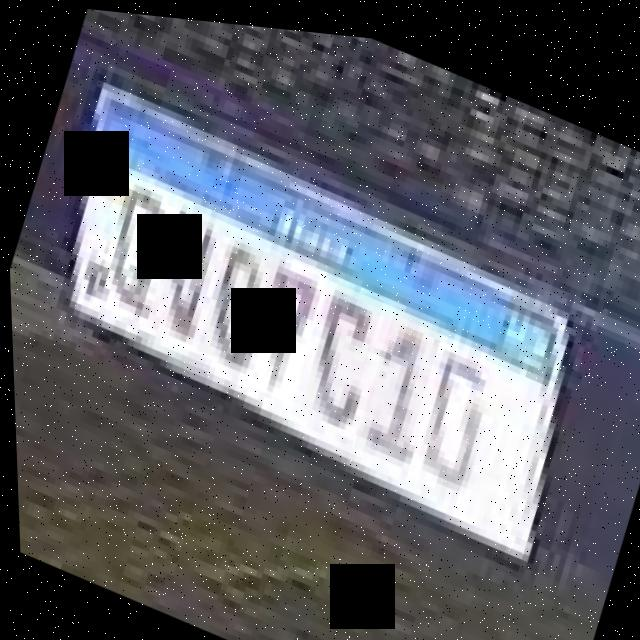0: (399, 321, 508, 494), (191, 230, 281, 369)
1: (346, 294, 446, 463)
7: (242, 249, 332, 402)
C: (293, 270, 386, 427)
Q: (86, 165, 189, 327)
V: (136, 191, 233, 346)
